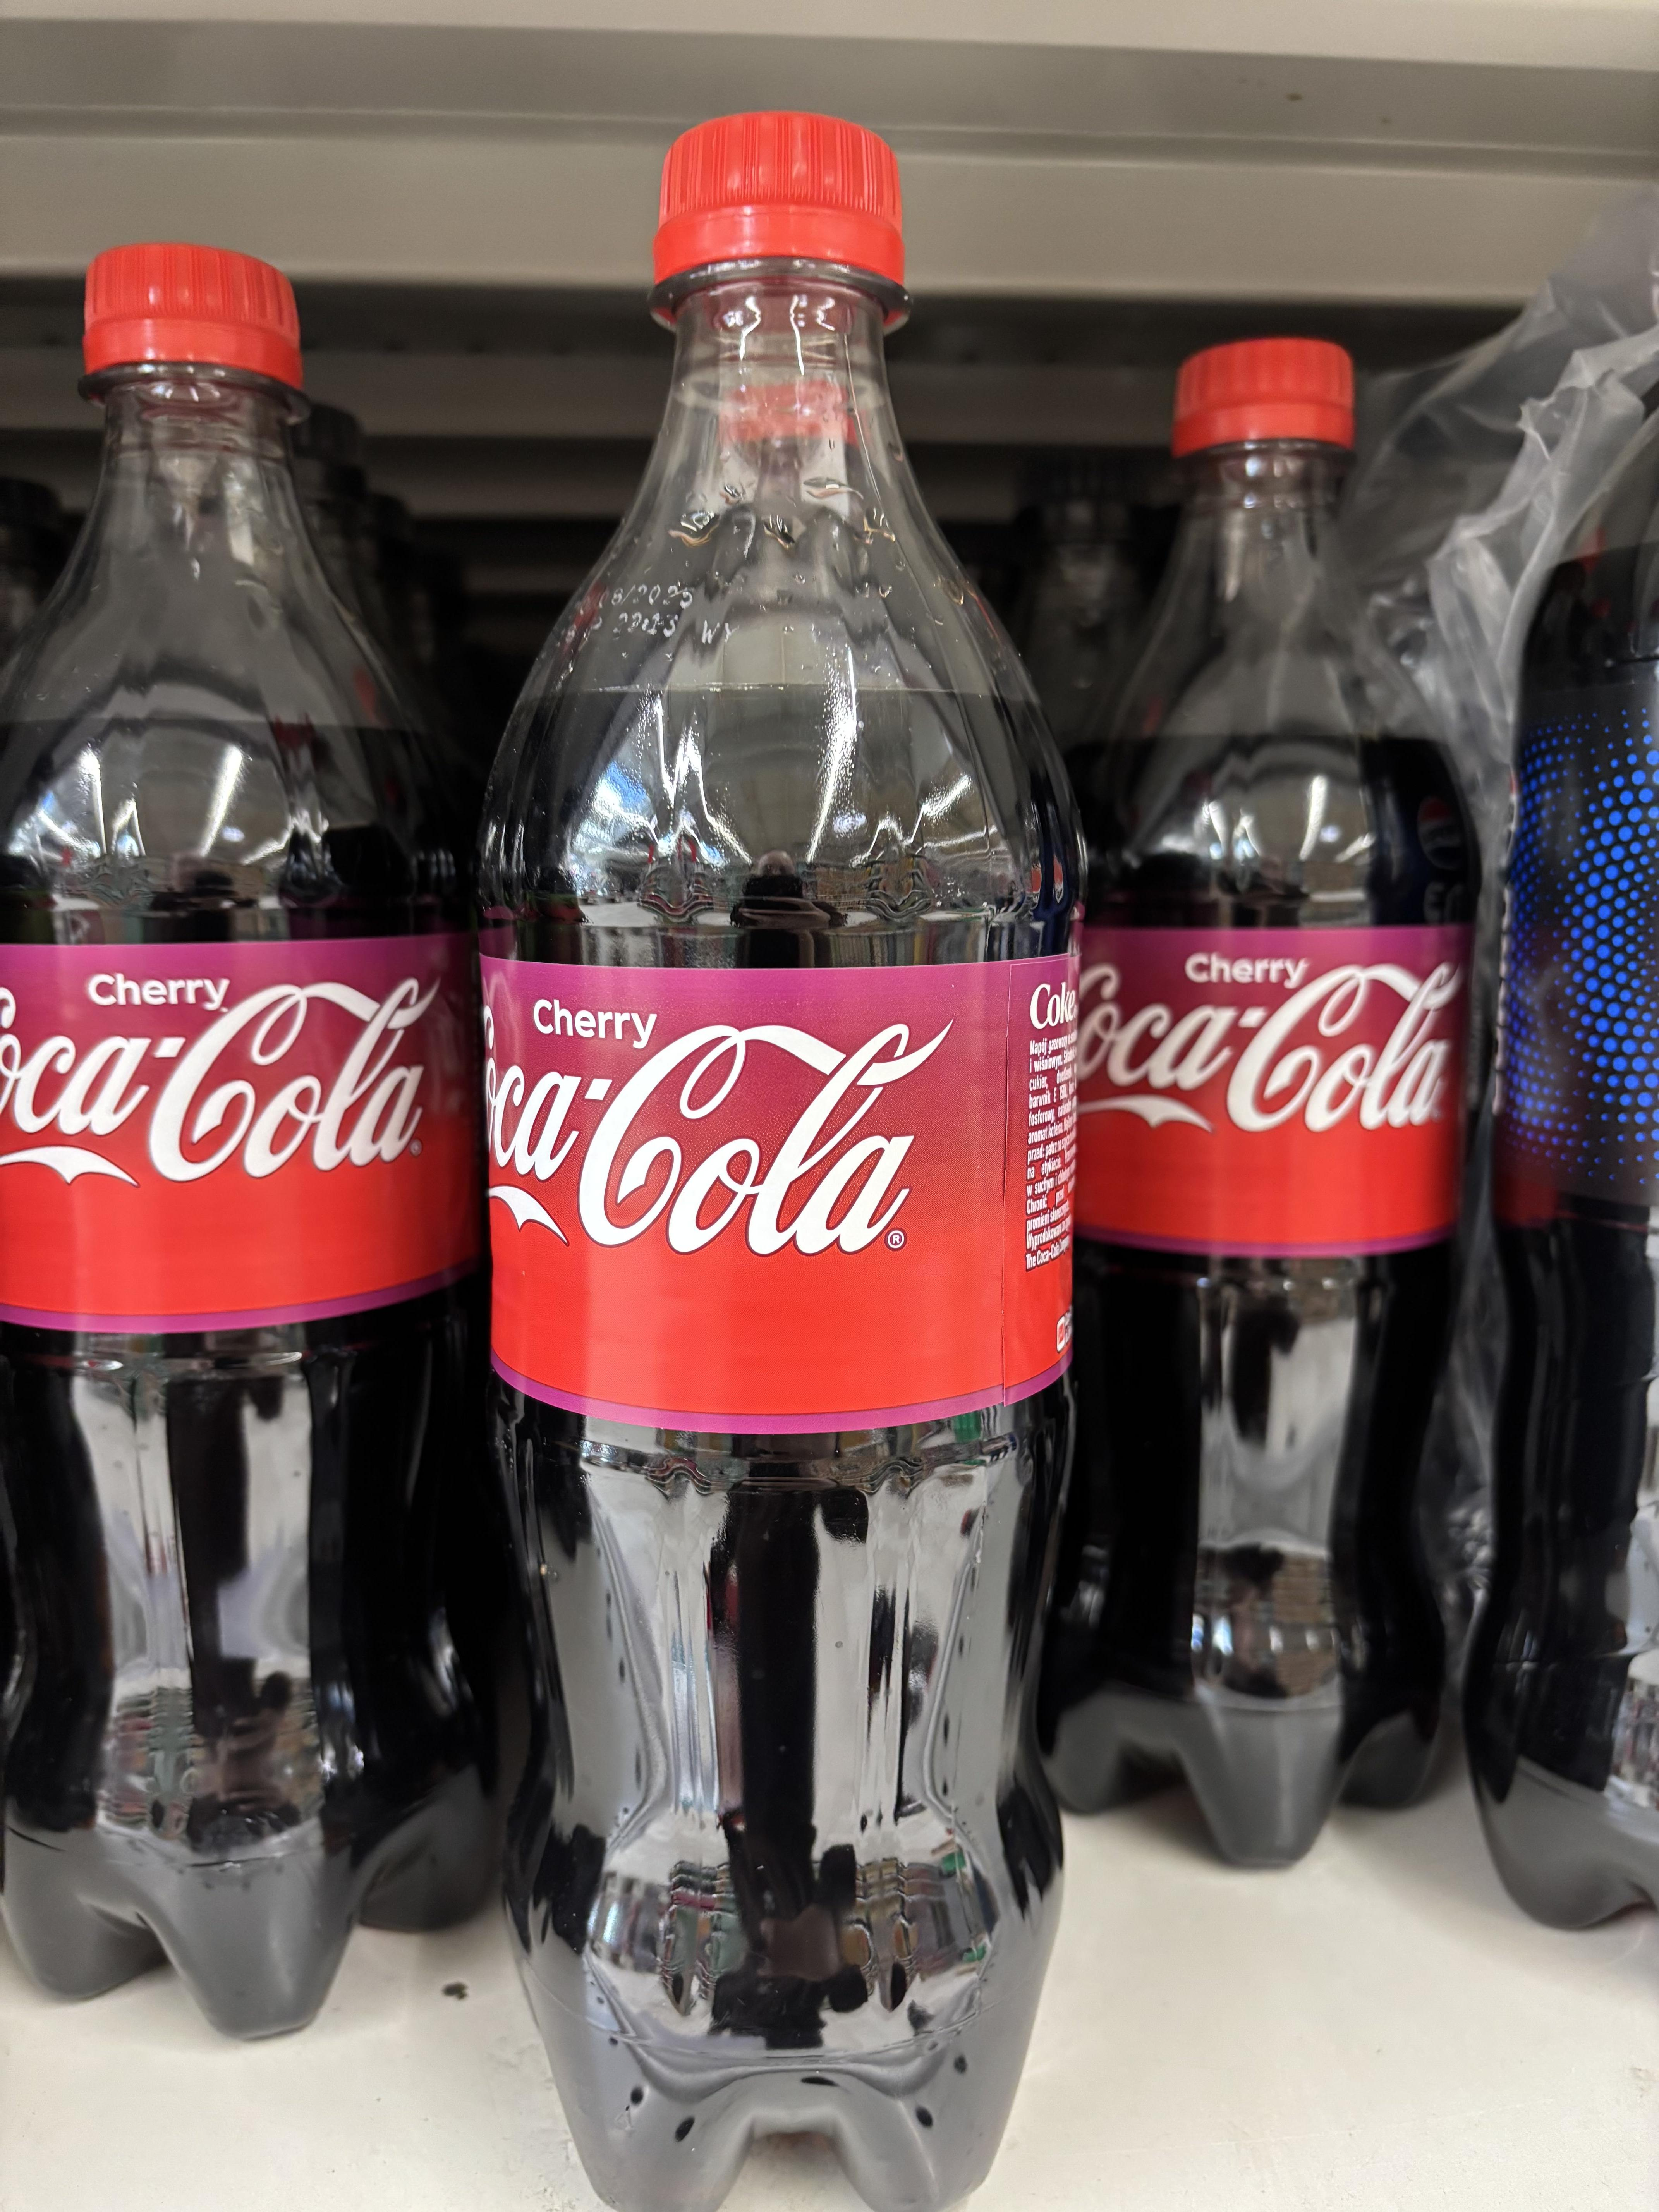Coca Cola: (416, 120, 1108, 2202), (0, 242, 430, 2000), (1094, 388, 1485, 1836)
